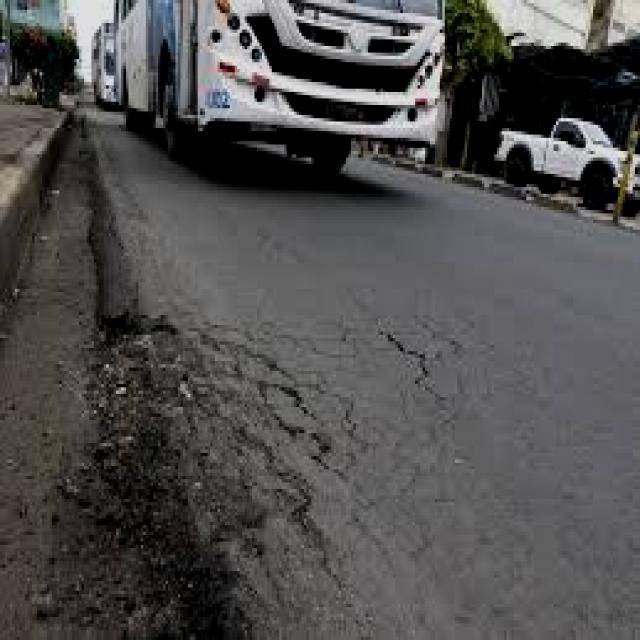BUS: (95, 0, 447, 168)
CMT: (496, 108, 640, 209)
